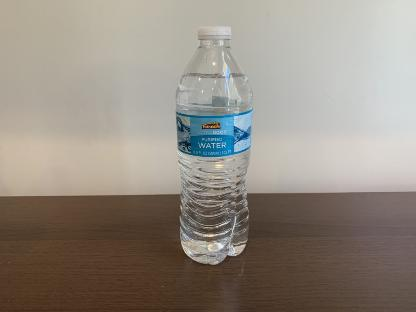Plastic Bottle: (166, 19, 276, 267)
